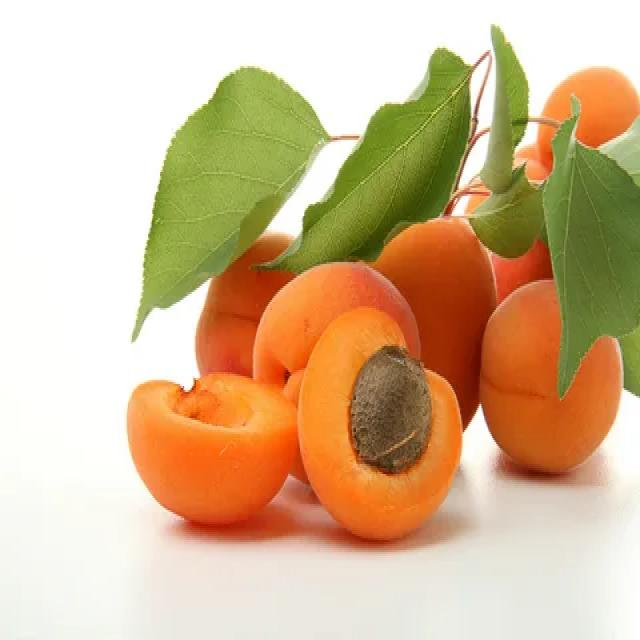Cekirdek: (351, 344, 431, 472)
Kayisi: (128, 374, 297, 518)
Yaprak: (271, 50, 469, 268)
